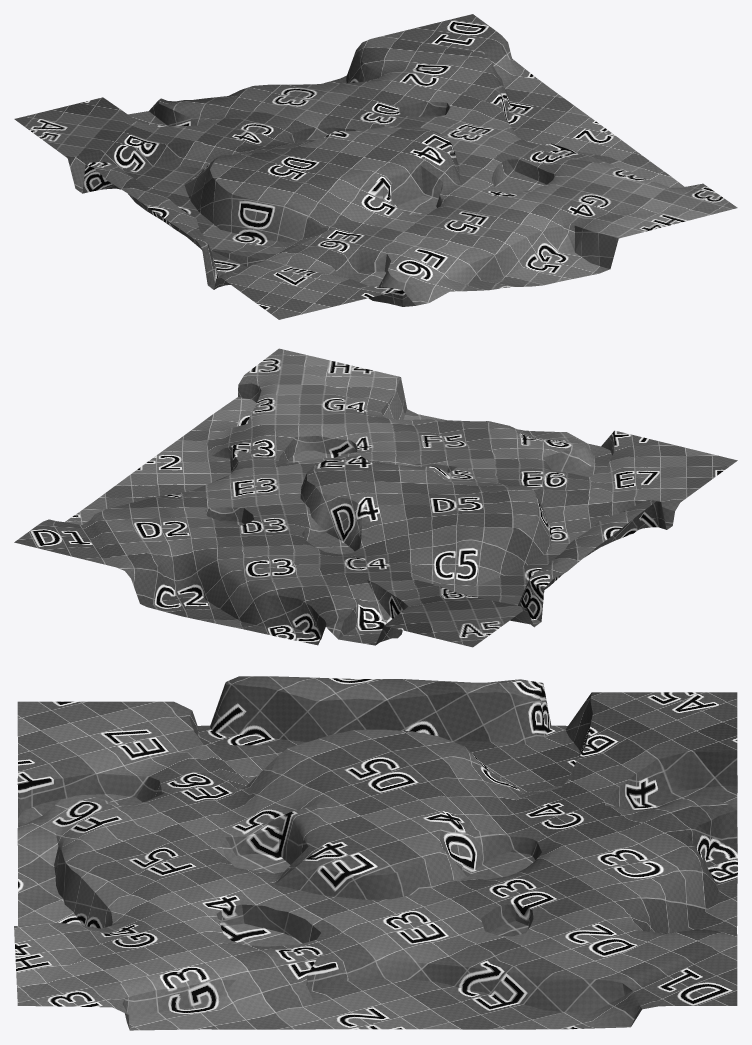
The model's file is Terrain6.fbx.
3 views of the same model, one above another, from view 1: azimuth 30°, elevation 25°; view 2: azimuth 150°, elevation 25°; view 3: azimuth 270°, elevation 25° (orthographic). The views are drawn at different scales.
Parts seen in each view (by area): view 1: Terrain6; view 2: Terrain6; view 3: Terrain6.
Part boxes in pixels (box(x1,y1,x2,y2)): Terrain6: box(14, 14, 737, 319); Terrain6: box(14, 348, 737, 647); Terrain6: box(14, 676, 737, 1030).
Size of the model in its own units: 1228986 by 141929 by 1236277.
